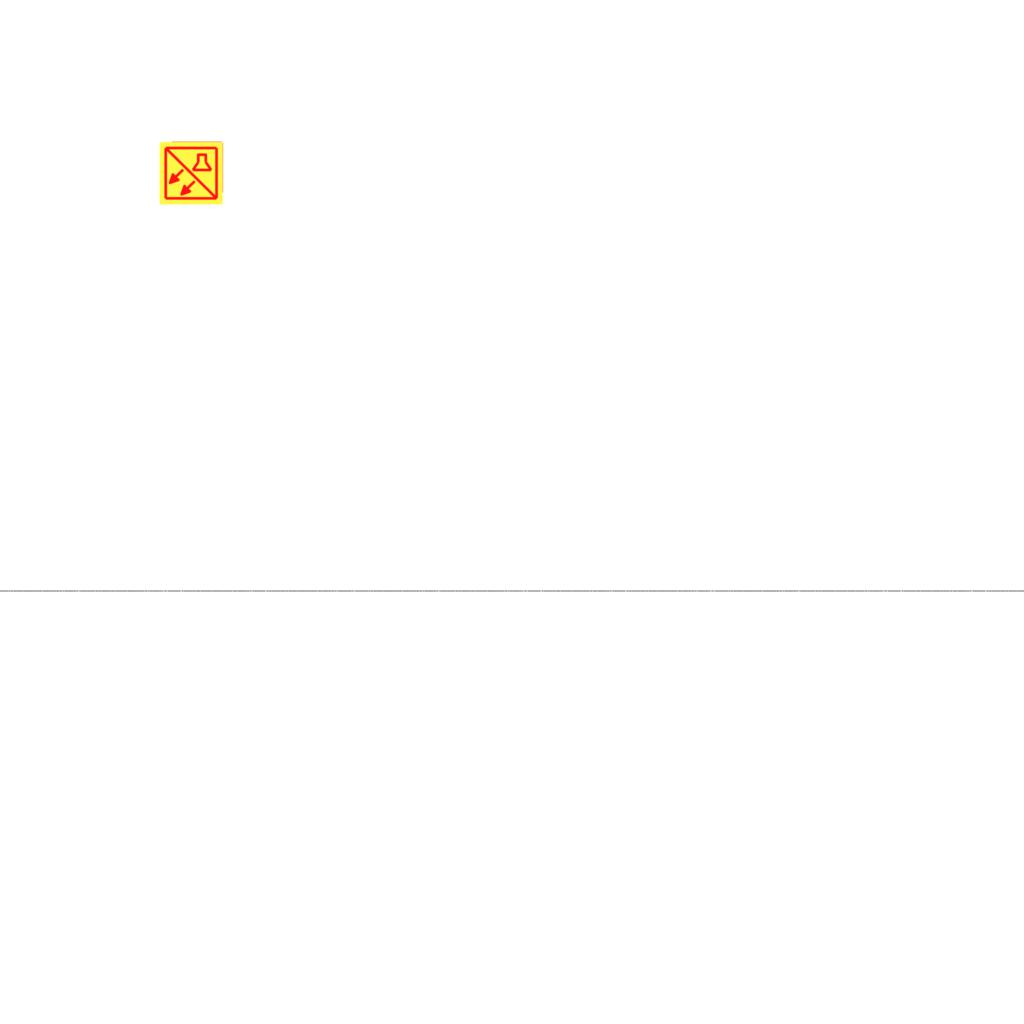OKW_Multisensormelder_(Kombination_optischer_Rauch-Kahlenmonoxid_Waerme-Melder): (158, 140, 224, 206)
